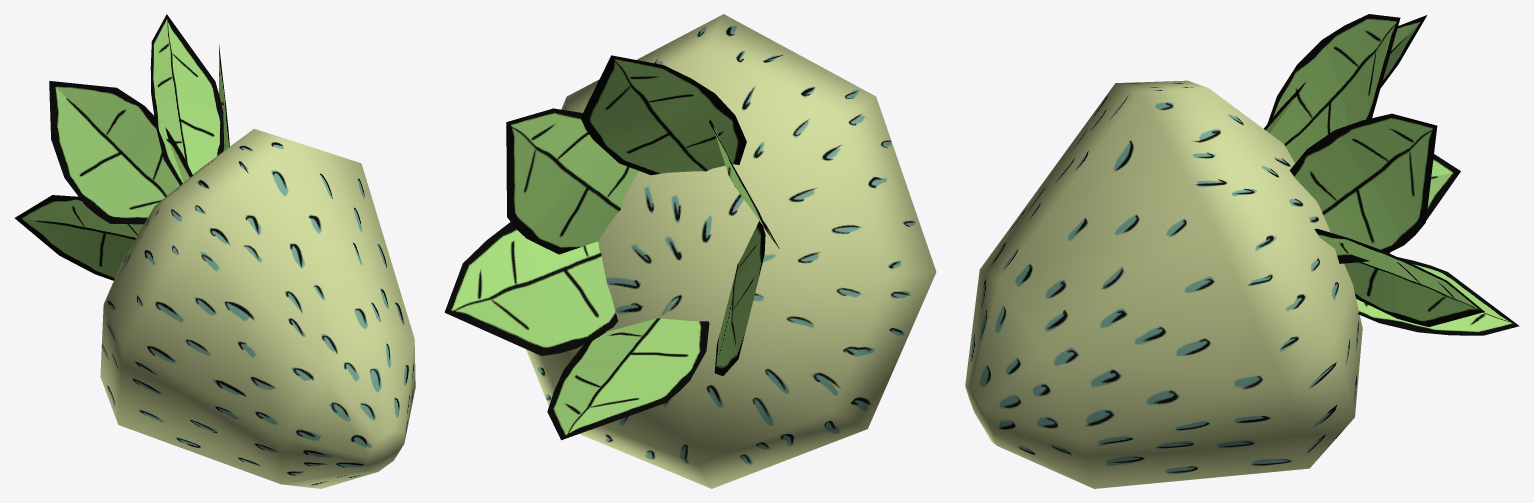
The model's file is Frez.fbx.
3 renders of one model, left to right at view 1: azimuth 30°, elevation 25°; view 2: azimuth 150°, elevation 25°; view 3: azimuth 270°, elevation 25°, orthographic. The views are drawn at different scales.
Visible parts, largest first — view 1: Frez; view 2: Frez; view 3: Frez.
Boxes of the visible parts, <box> form: Frez: <box>14,14,415,488</box>; Frez: <box>444,14,936,488</box>; Frez: <box>965,14,1519,488</box>.
Bounding box in the file's own units: 0.1164 × 0.1437 × 0.1615.
